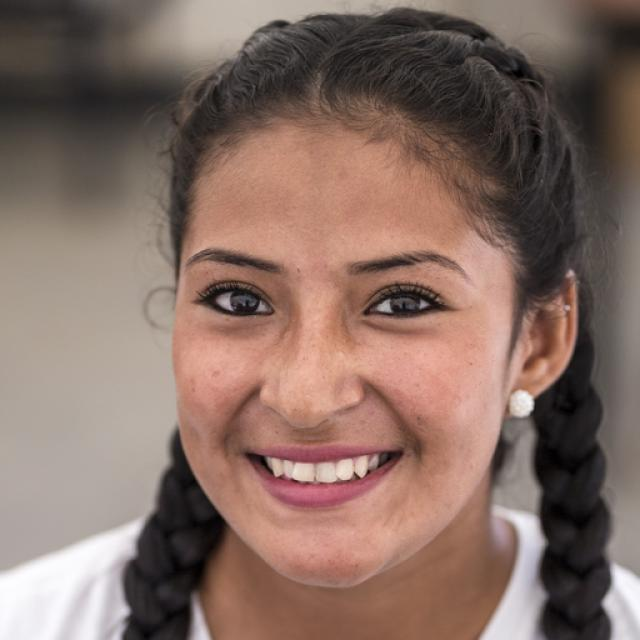Dark Circle: (196, 303, 277, 338), (363, 318, 442, 338)
Pigmentation: (273, 308, 364, 363)
